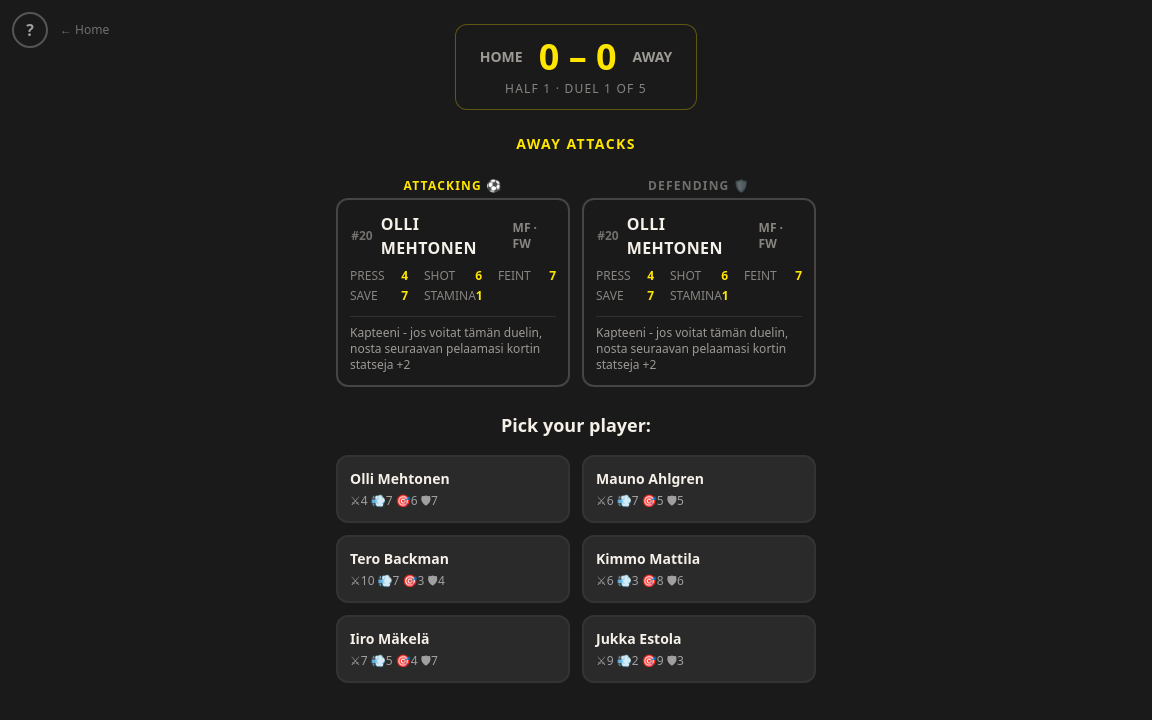
DuelScreen — away possession (AI is attacker) › resolves and shows result when human picks char + defender card
Click the button with test id "char-btn-" at (453, 489), box top-left (336, 455), bottom-right (570, 523)
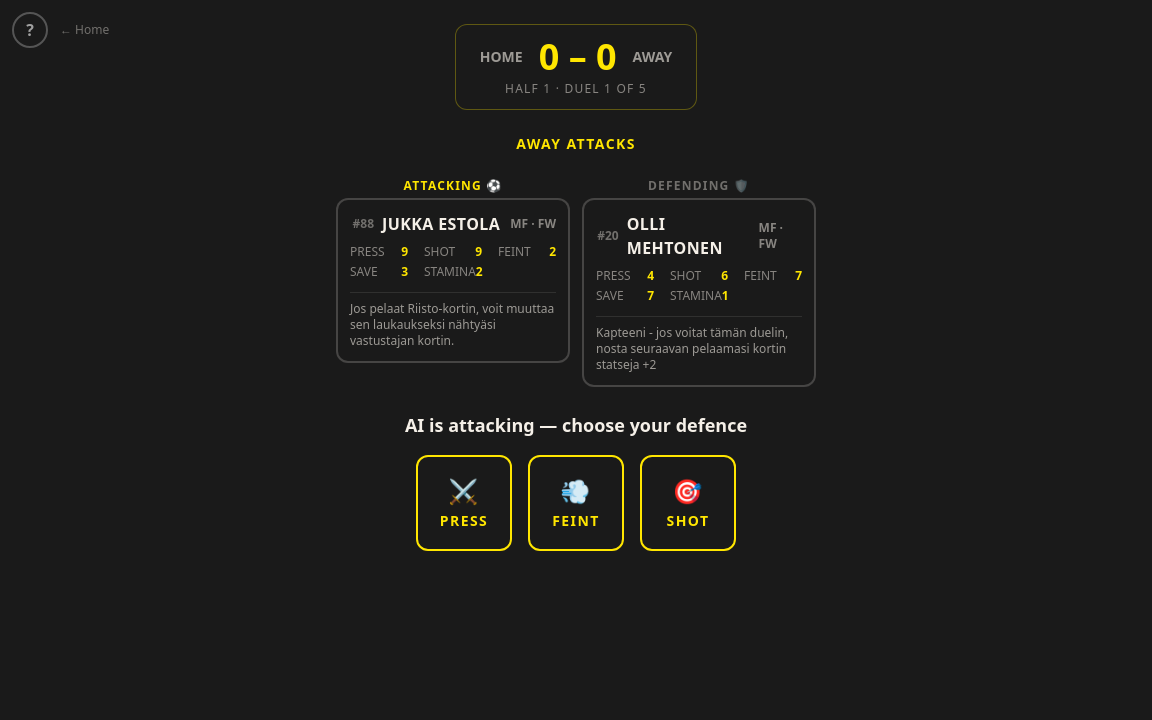
Click the button with test id "card-btn-feint" at (576, 503), box top-left (528, 455), bottom-right (624, 551)
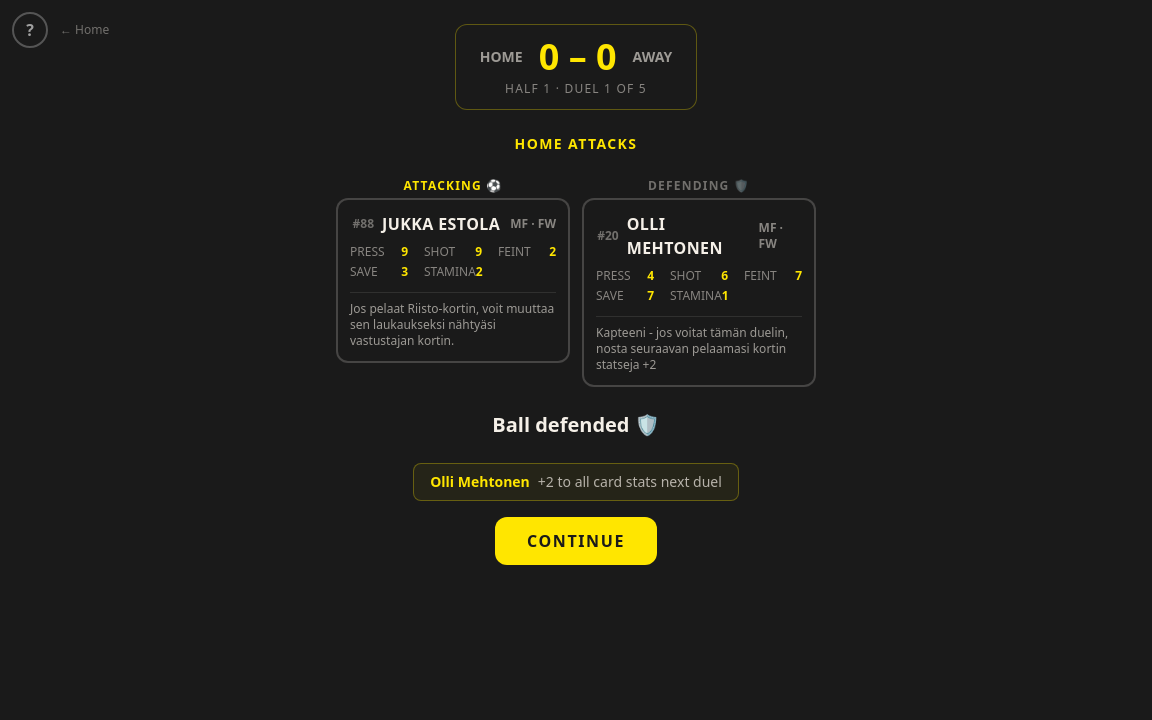
Expected: the element with test id "duel-result-panel" is shown, top-left (413, 411), bottom-right (739, 565)
